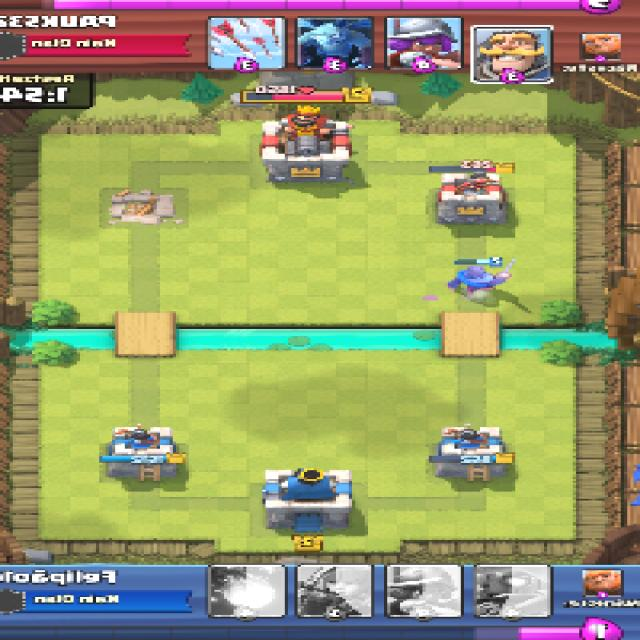Player-Knight: (446, 264, 511, 294)
